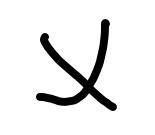mult: (36, 19, 117, 112)
